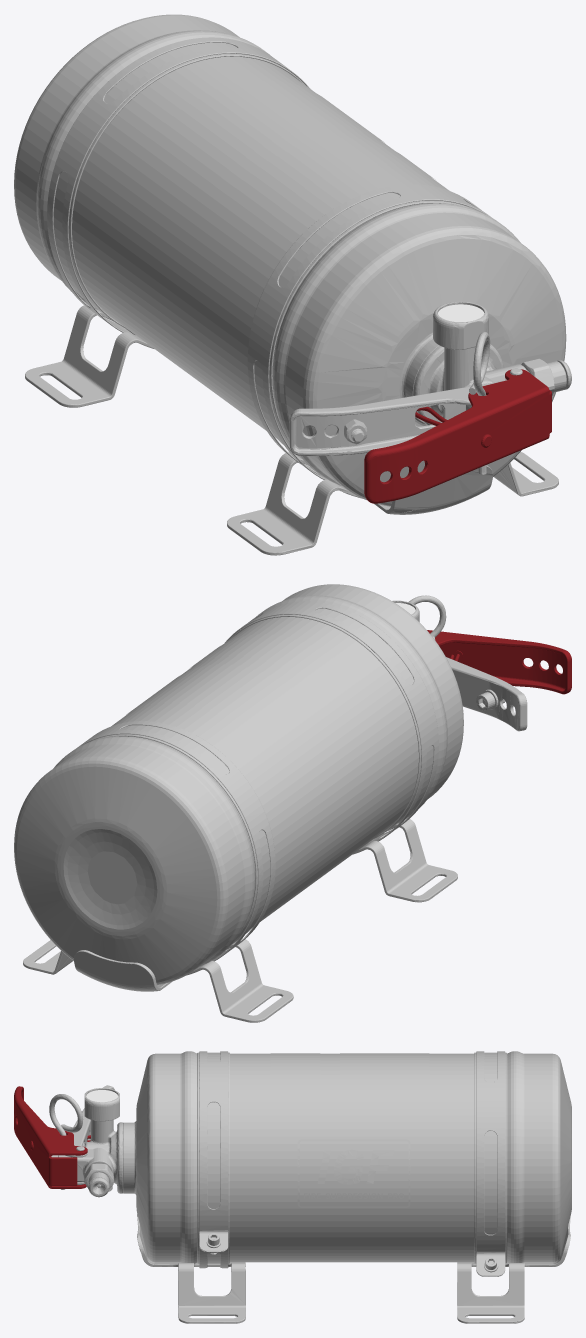
Rendered from cylinder-tank.glb.
3 views of the same model, one above another, from view 1: azimuth 30°, elevation 25°; view 2: azimuth 150°, elevation 25°; view 3: azimuth 270°, elevation 25° (orthographic). The views are drawn at different scales.
Visible parts, largest first — view 1: normalized; view 2: normalized; view 3: normalized.
Part boxes in pixels (box(x1,y1,x2,y2)): normalized: box(14, 14, 571, 555); normalized: box(14, 584, 571, 1022); normalized: box(14, 1051, 571, 1323).
Size of the model in its own units: 0.4792 by 0.421 by 1.
